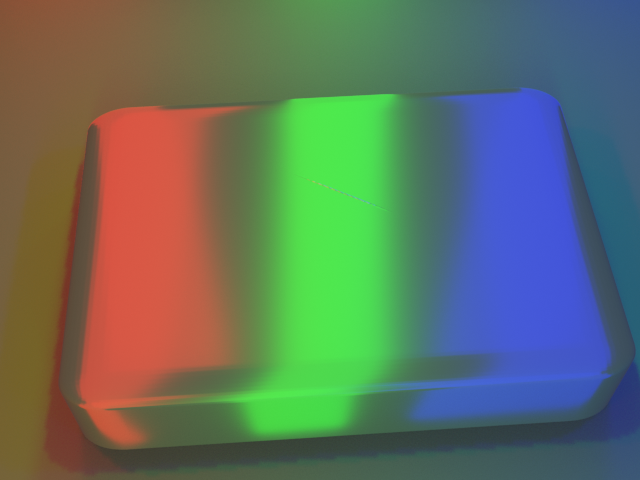scratch: (191, 108, 493, 275)
